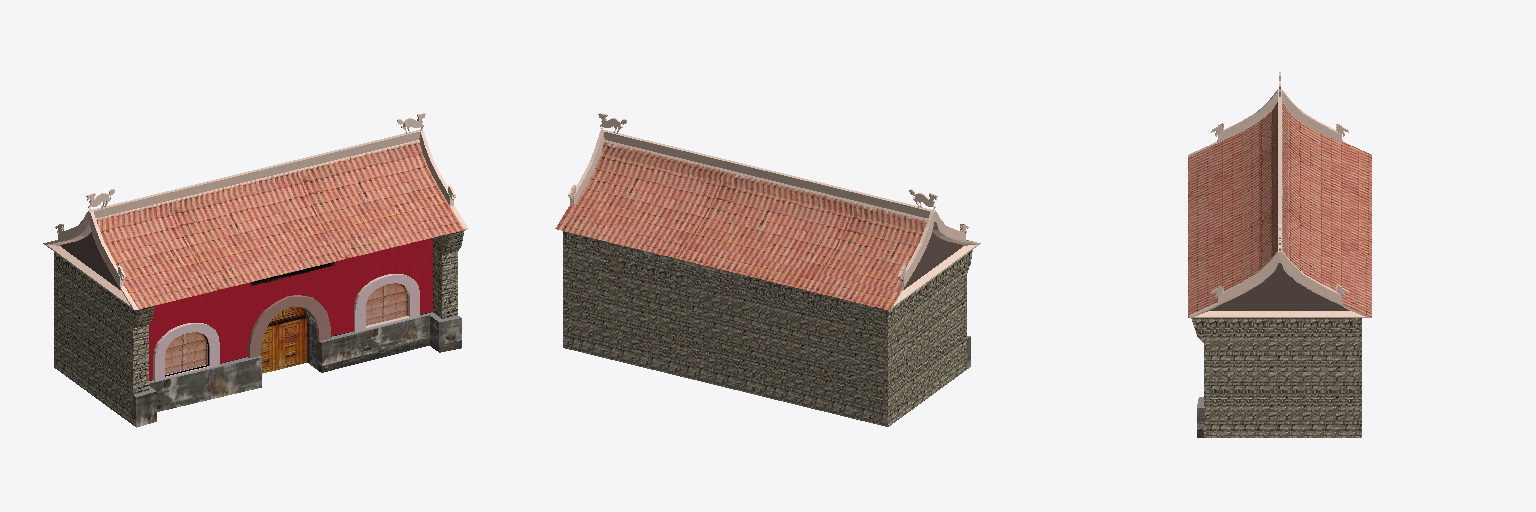
The picture shows the model from 3 angles: view 1: azimuth 30°, elevation 25°; view 2: azimuth 150°, elevation 25°; view 3: azimuth 270°, elevation 25°; orthographic projection.
Visible parts, largest first — view 1: 10062_china_buddhist_temple_2009_网格; view 2: 10062_china_buddhist_temple_2009_网格; view 3: 10062_china_buddhist_temple_2009_网格.
Part boxes in pixels (x1,y1,x2,y2): 10062_china_buddhist_temple_2009_网格: (43, 113, 468, 427); 10062_china_buddhist_temple_2009_网格: (555, 113, 980, 426); 10062_china_buddhist_temple_2009_网格: (1188, 72, 1371, 437).
Bounding box in the file's own units: 30.89 × 17.74 × 14.46.
1 materials, 1 textured.